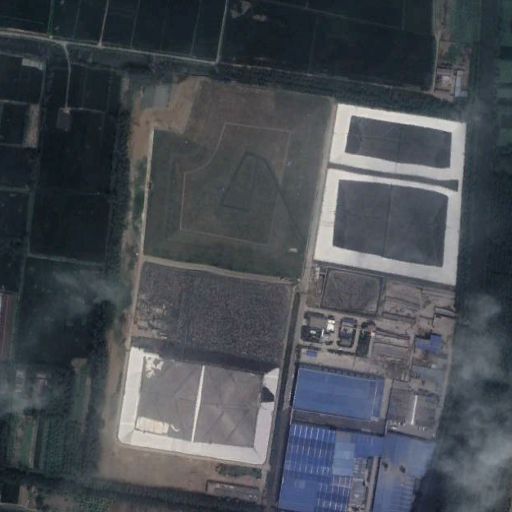lf: (117, 256, 293, 464), (309, 104, 464, 289)
